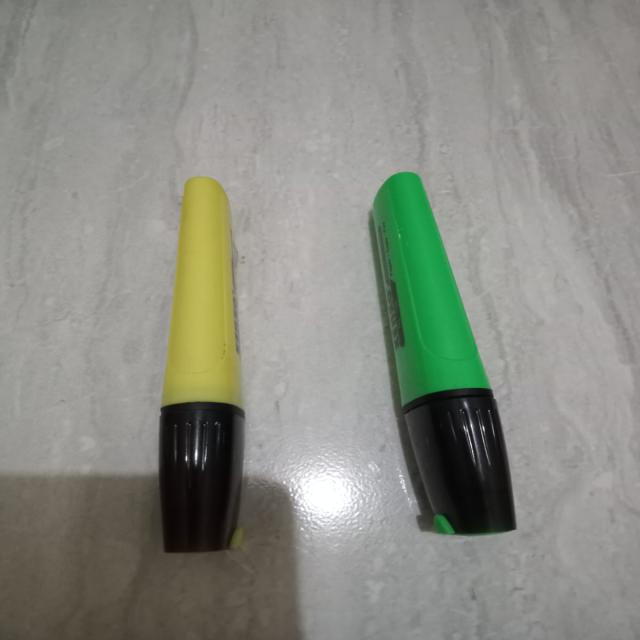highlighter: (338, 168, 570, 546), (139, 158, 264, 570)
